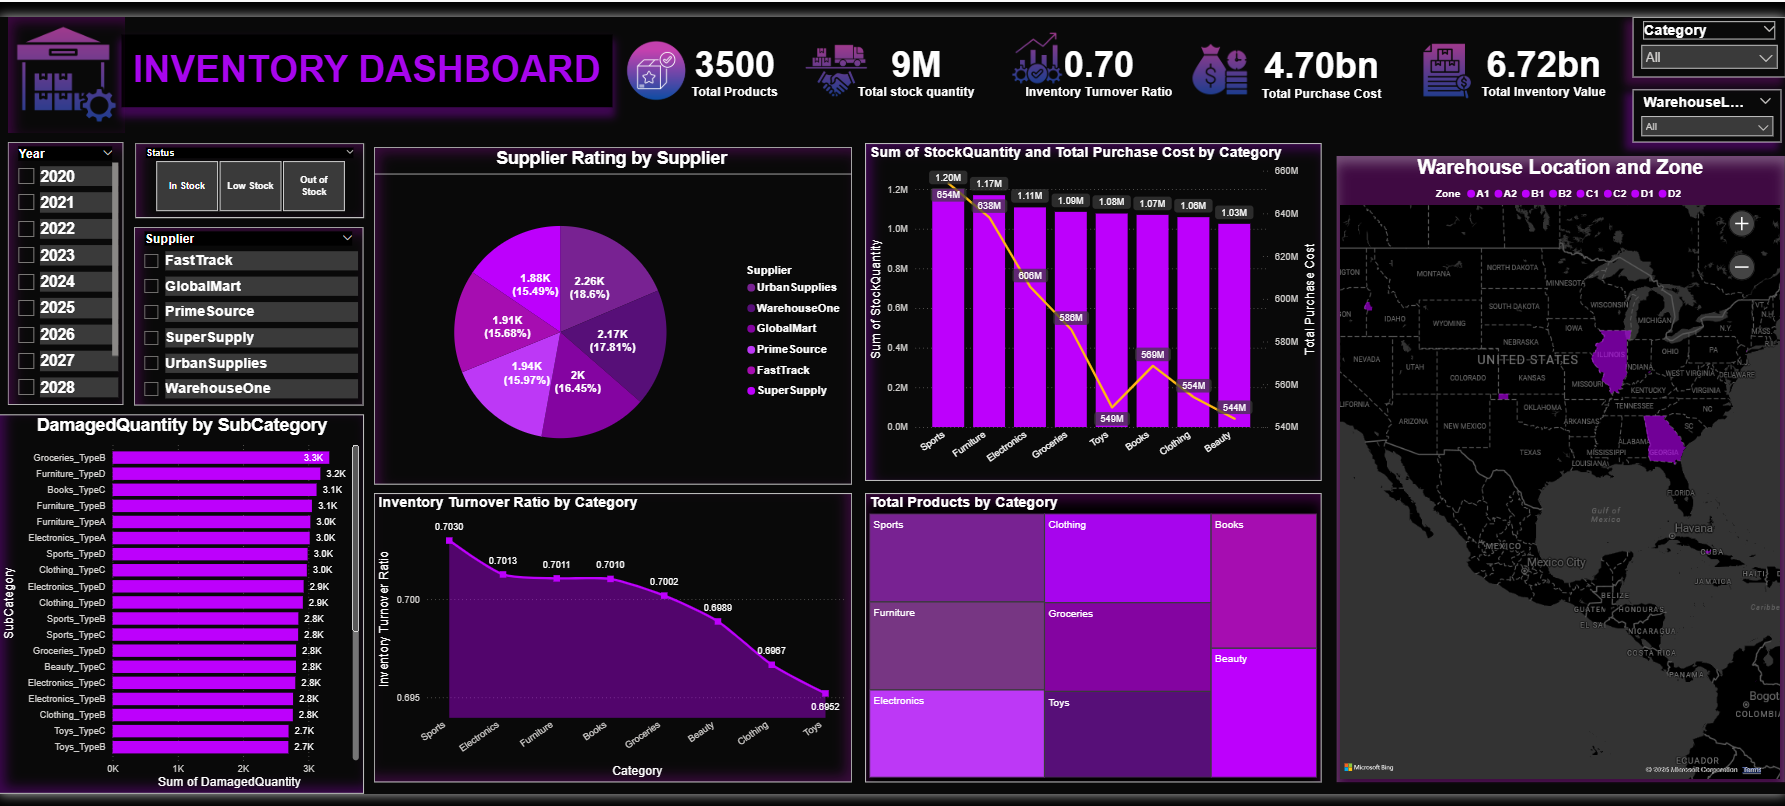

What the dashboard file says about the page in this screenshot:
{"tool":"powerbi","page":{"name":"Page 1","canvas":[2300,1000],"ordinal":0},"visuals":[{"type":"card","fields":{"Values":["Inventory.Inventory Turnover Ratio (Estimation)"]},"box":[1292.9,0,245,132.6],"z":0},{"type":"card","fields":{"Values":["Metrics.Total Inventory Value"]},"box":[1874.9,0,228.4,132.6],"z":1000},{"type":"card","fields":{"Values":["Metrics.Total stock quantity"]},"box":[1066.4,0,228.4,132.6],"z":2000},{"type":"card","fields":{"Values":["Metrics.Total Purchase Cost"]},"box":[1583.9,1.8,235.7,132.6],"z":3000},{"type":"slicer","fields":{"Values":["Inventory.ExpiryDate.Variation.Date Hierarchy.Year"]},"box":[10.8,161.5,148.6,338.1],"z":4000},{"type":"slicer","fields":{"Values":["Products.Category"]},"box":[2103.3,0,197.1,77.4],"z":5000},{"type":"card","fields":{"Values":["Products.Total Products"]},"box":[828.8,0,237.6,132.6],"z":6000},{"type":"treemap","fields":{"Values":["Products.Total Products"],"Group":["Products.Category"]},"box":[1114.3,613.3,587.5,372],"z":7000},{"type":"lineStackedColumnComboChart","fields":{"Category":["Products.Category"],"Y":["Sum(Inventory.StockQuantity)"],"Y2":["Metrics.Total Purchase Cost"]},"box":[1114.3,162.1,587.5,434.7],"z":8000},{"type":"slicer","fields":{"Values":["Suppliers.WarehouseLocation"]},"box":[2103.3,93.9,191.5,68.1],"z":9000},{"type":"barChart","title":"DamagedQuantity by SubCategory","fields":{"Category":["Products.SubCategory"],"Y":["Sum(Inventory.DamagedQuantity)"]},"box":[0,512,469.7,488.1],"z":10000},{"type":"areaChart","fields":{"Category":["Products.Category"],"Y":["Inventory.Inventory Turnover Ratio (Estimation)"]},"box":[482.5,613.3,615.2,372],"z":11000},{"type":"pieChart","title":"Supplier Rating by Supplier","fields":{"Category":["Suppliers.Supplier"],"Y":["Sum(Suppliers.SupplierRating)"]},"box":[482.5,167.6,615.2,434.7],"z":12000},{"type":"filledMap","title":"Warehouse Location and Zone","fields":{"Category":["Suppliers.WarehouseLocation"],"Series":["Suppliers.Zone"]},"box":[1722.1,178.7,576.5,806.7],"z":13000},{"type":"slicer","fields":{"Values":["Inventory.Status"]},"box":[175,162.1,294.7,95.8],"z":14000},{"type":"textbox","box":[158.4,22.1,631.7,93.9],"z":15000},{"type":"slicer","fields":{"Values":["Suppliers.Supplier"]},"box":[174.3,269.8,294.9,229.6],"z":16000},{"type":"image","box":[1027.7,22.1,99.5,93.9],"z":19000},{"type":"image","box":[11.1,0,151,149.2],"z":20000},{"type":"image","box":[790.1,25.8,112.3,86.6],"z":20001},{"type":"image","box":[1294.8,12.9,82.9,81],"z":20002},{"type":"image","box":[1525,22.1,92.1,88.4],"z":20003},{"type":"image","box":[1819.7,25.8,88.4,90.2],"z":20004}]}

Visuals, with their boxes in screenshot pixels (x1, y1, x2, y2):
card - Inventory.Inventory Turnover Ratio (Estimation): rect(1007, 0, 1202, 105)
card - Metrics.Total Inventory Value: rect(1469, 0, 1650, 105)
card - Metrics.Total stock quantity: rect(828, 0, 1009, 105)
card - Metrics.Total Purchase Cost: rect(1238, 1, 1425, 107)
slicer - Inventory.ExpiryDate.Variation.Date Hierarchy.Year: rect(0, 128, 108, 396)
slicer - Products.Category: rect(1650, 0, 1784, 61)
card - Products.Total Products: rect(639, 0, 828, 105)
treemap - Products.Total Products x Products.Category: rect(866, 487, 1332, 782)
lineStackedColumnComboChart - Products.Category x Sum(Inventory.StockQuantity): rect(866, 129, 1332, 474)
slicer - Suppliers.WarehouseLocation: rect(1650, 75, 1784, 129)
"DamagedQuantity by SubCategory" barChart: rect(0, 406, 354, 794)
areaChart - Products.Category x Inventory.Inventory Turnover Ratio (Estimation): rect(364, 487, 852, 782)
"Supplier Rating by Supplier" pieChart: rect(364, 133, 852, 478)
"Warehouse Location and Zone" filledMap: rect(1348, 142, 1784, 782)
slicer - Inventory.Status: rect(120, 129, 354, 205)
textbox: rect(107, 18, 608, 92)
slicer - Suppliers.Supplier: rect(120, 214, 354, 396)
image: rect(797, 18, 876, 92)
image: rect(0, 0, 110, 118)
image: rect(608, 20, 697, 89)
image: rect(1009, 10, 1075, 75)
image: rect(1191, 18, 1265, 88)
image: rect(1425, 20, 1495, 92)
